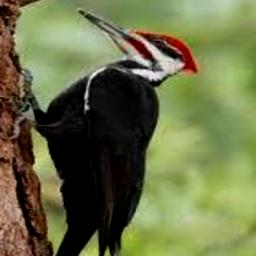Woodpecker: (0, 8, 198, 256)
